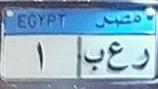1: (34, 40, 47, 72)
ain: (106, 39, 129, 74)
baa: (83, 46, 105, 73)
raa: (130, 46, 150, 73)
